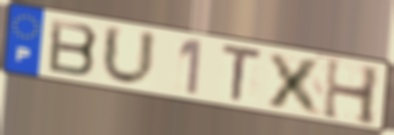1: (174, 36, 204, 97)
B: (46, 17, 101, 79)
H: (320, 56, 383, 129)
T: (219, 42, 265, 105)
U: (100, 22, 159, 89)
X: (264, 50, 327, 118)
